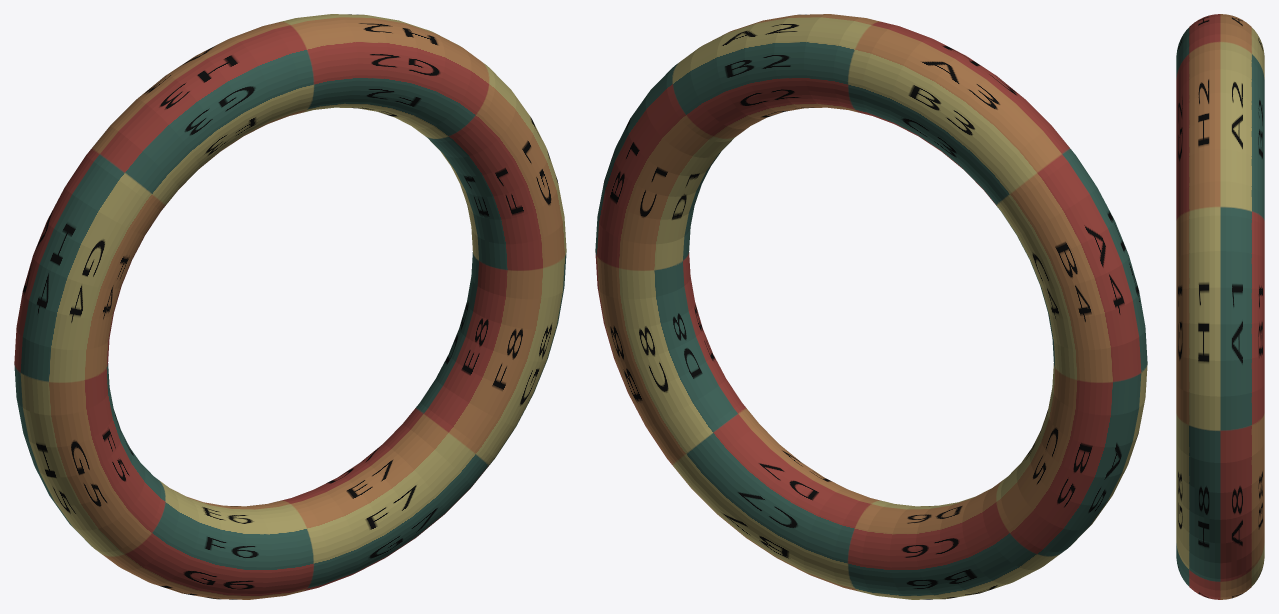
File: texture_torus_R20_r8.glb
3 renders of one model, left to right at view 1: azimuth 30°, elevation 25°; view 2: azimuth 150°, elevation 25°; view 3: azimuth 270°, elevation 25°, orthographic. The views are drawn at different scales.
Visible parts, largest first — view 1: world; view 2: world; view 3: world.
Boxes of the visible parts, box(x1,y1,x2,y2) form: world: box(14, 14, 566, 599); world: box(595, 14, 1147, 599); world: box(1176, 14, 1264, 599).
Bounding box in the file's own units: 27.47 × 27.41 × 4.13.
1 material, 1 textured.
